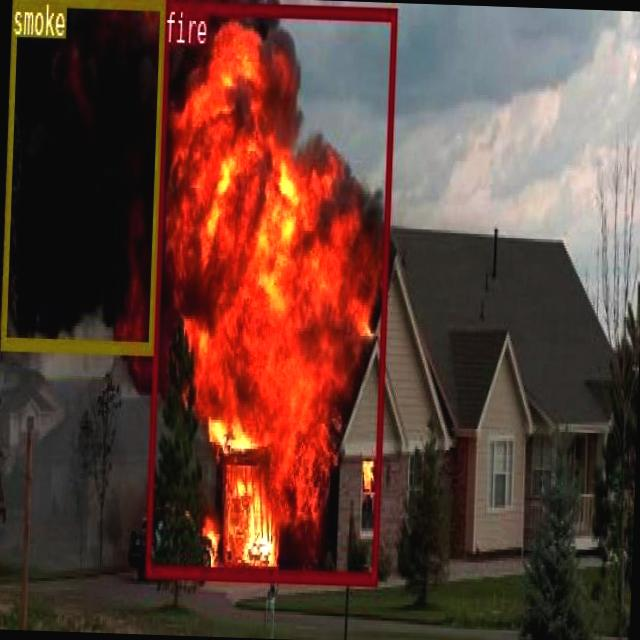fire: (144, 0, 395, 581)
smoke: (0, 0, 164, 351)
